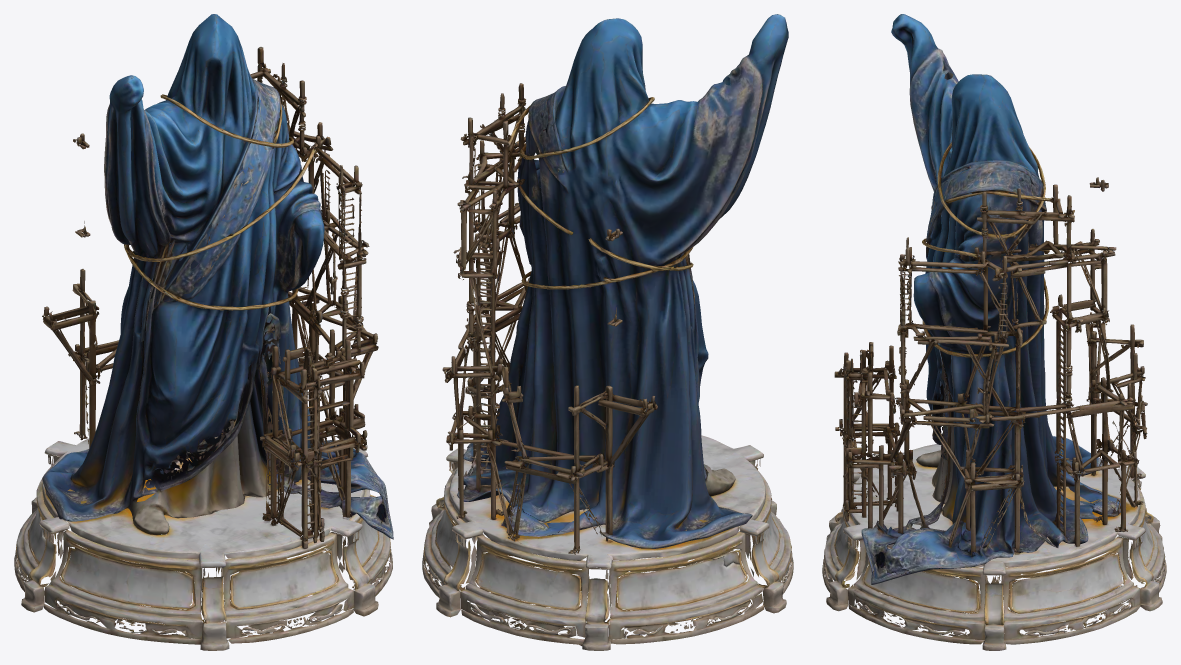
File: landmark_colossus.glb
3 renders of one model, left to right at view 1: azimuth 30°, elevation 25°; view 2: azimuth 150°, elevation 25°; view 3: azimuth 270°, elevation 25°, orthographic. The views are drawn at different scales.
Visible parts, largest first — view 1: geometry_0; view 2: geometry_0; view 3: geometry_0.
Boxes of the visible parts, left/top/right/bottom form: geometry_0: left=14, top=14, right=393, bottom=650; geometry_0: left=422, top=14, right=793, bottom=650; geometry_0: left=822, top=14, right=1166, bottom=650.
Size of the model in its own units: 16.14 by 24 by 14.89.
1 material, 1 textured.
